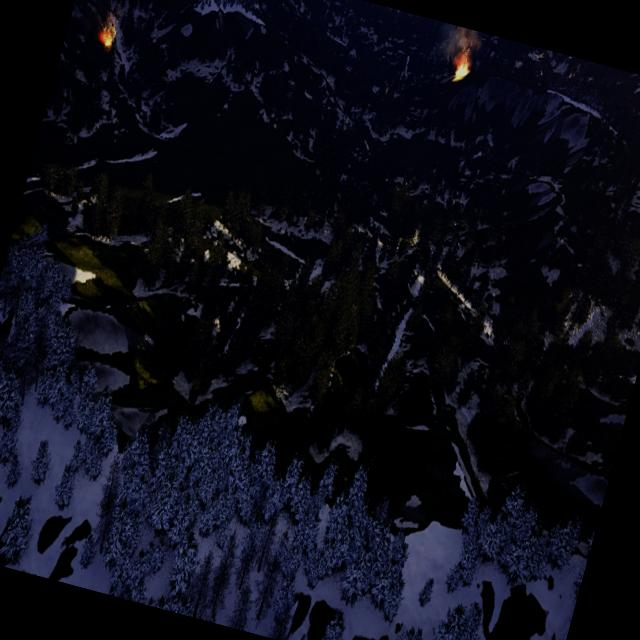fire: (450, 54, 473, 85), (96, 28, 116, 51)
smoke: (432, 22, 480, 62)
